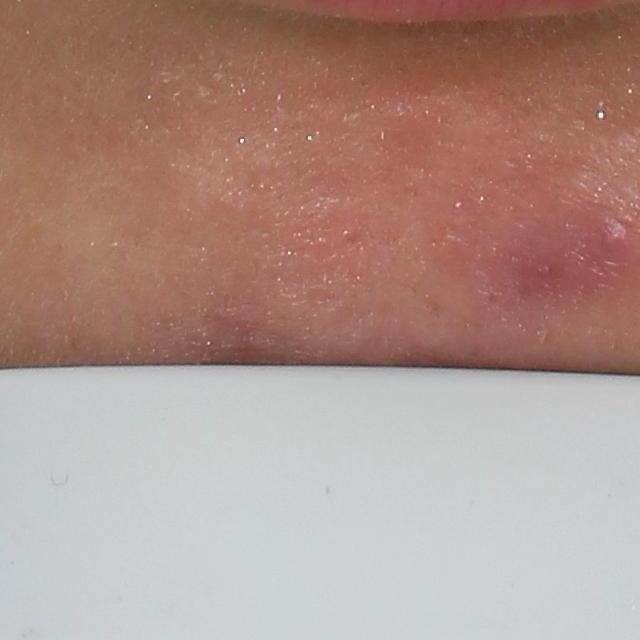papule: (596, 214, 635, 259)
